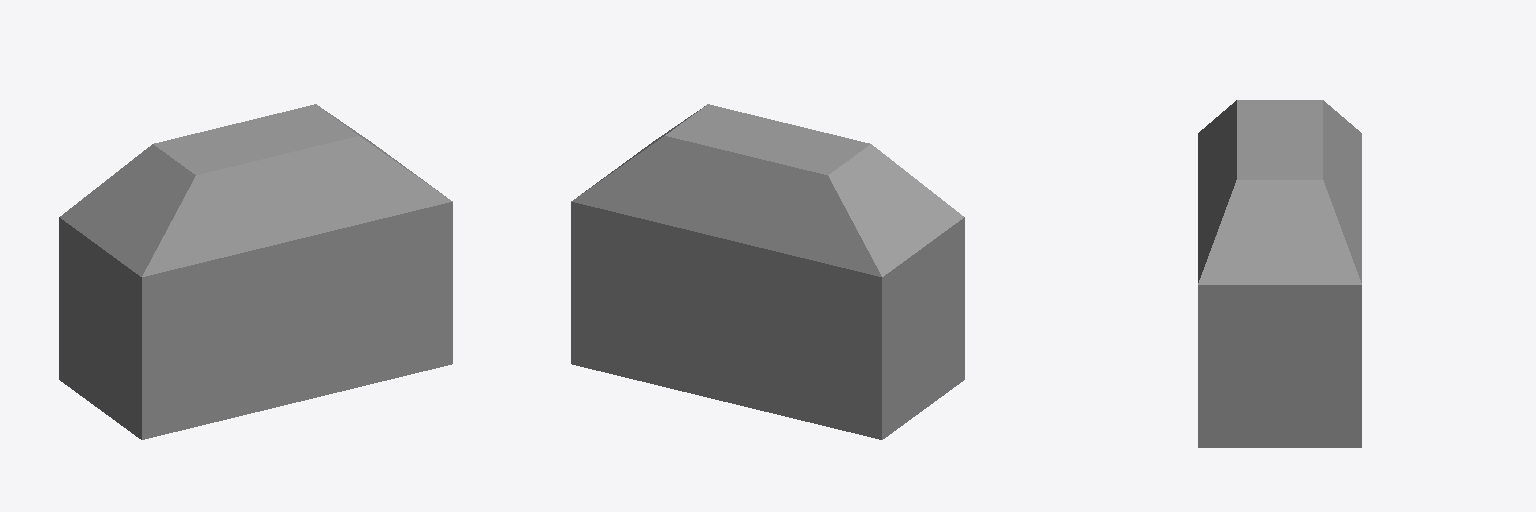
Rendered from Beat.obj.
The picture shows the model from 3 angles: view 1: azimuth 30°, elevation 25°; view 2: azimuth 150°, elevation 25°; view 3: azimuth 270°, elevation 25°; orthographic projection.
Visible parts, largest first — view 1: Cube; view 2: Cube; view 3: Cube.
Boxes of the visible parts, x1,y1,x2,y2 form: Cube: [59, 104, 452, 439]; Cube: [571, 104, 964, 439]; Cube: [1198, 100, 1361, 447].
Size of the model in its own units: 2 by 1.43 by 0.9166.